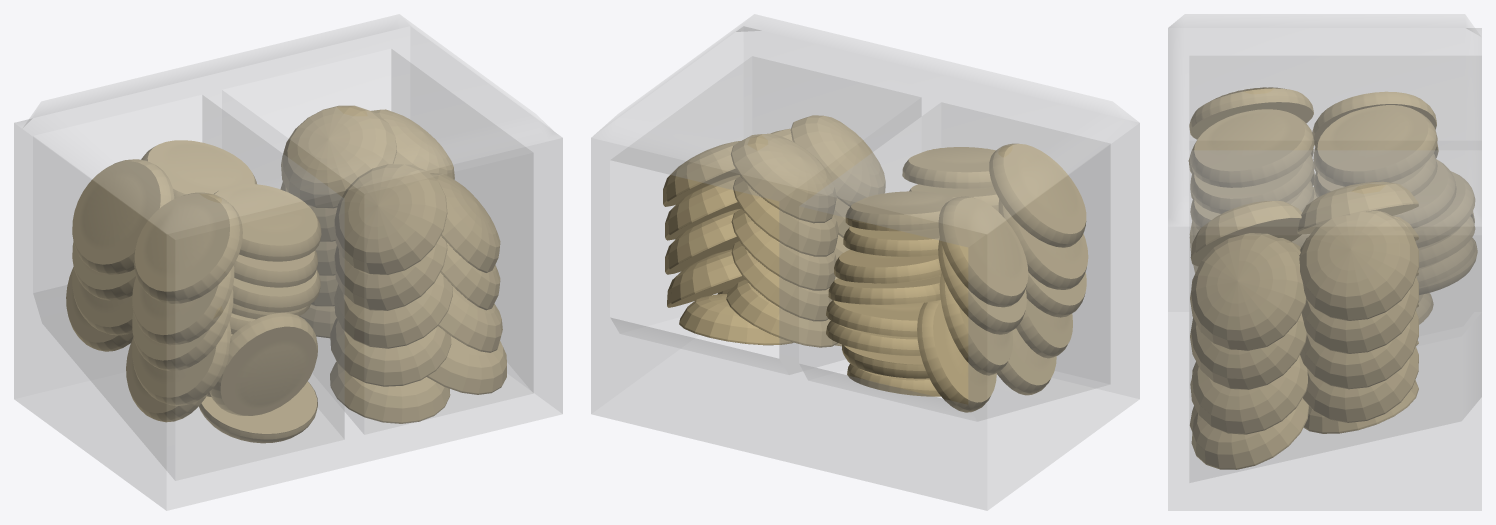
File: breadboxFull.fbx
The picture shows the model from 3 angles, left to right: view 1: azimuth 30°, elevation 25°; view 2: azimuth 150°, elevation 25°; view 3: azimuth 270°, elevation 25°; orthographic projection. The views are drawn at different scales.
Parts seen in each view (by area): view 1: breadBoxFull; view 2: breadBoxFull; view 3: breadBoxFull.
Part boxes in pixels (x1,y1,x2,y2): breadBoxFull: [14, 14, 562, 510]; breadBoxFull: [591, 14, 1139, 510]; breadBoxFull: [1168, 14, 1481, 510].
Bounding box in the file's own units: 75 × 54.11 × 50.
